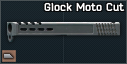Glock 9x19 Moto Cut pistol slide: (0, 0, 127, 64)
